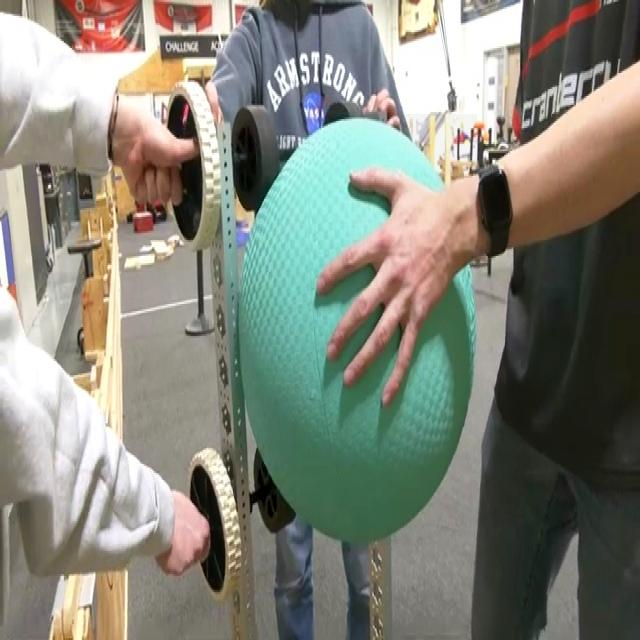Algae: (236, 114, 477, 546)
